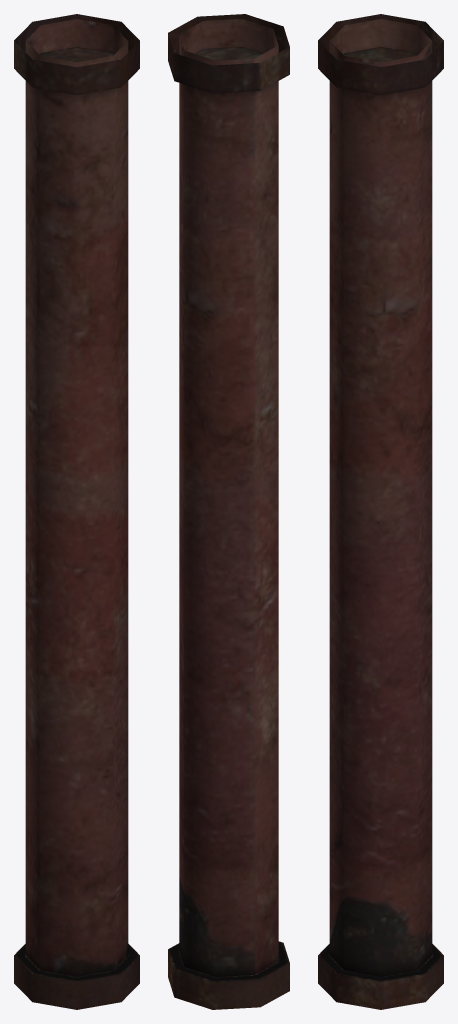
File: RustyThick_VerticalPipe_01.FBX
3 views of the same model, side by side, from view 1: azimuth 90°, elevation 25°; view 2: azimuth 210°, elevation 25°; view 3: azimuth 270°, elevation 25° (orthographic).
Visible parts, largest first — view 1: RustyThick_VerticalPipe_01; view 2: RustyThick_VerticalPipe_01; view 3: RustyThick_VerticalPipe_01.
Part boxes in pixels (x1=…): RustyThick_VerticalPipe_01: x1=14, y1=14, x2=139, y2=1009; RustyThick_VerticalPipe_01: x1=168, y1=14, x2=289, y2=1009; RustyThick_VerticalPipe_01: x1=318, y1=14, x2=443, y2=1009.
Size of the model in its own units: 37.79 by 312 by 37.79.
